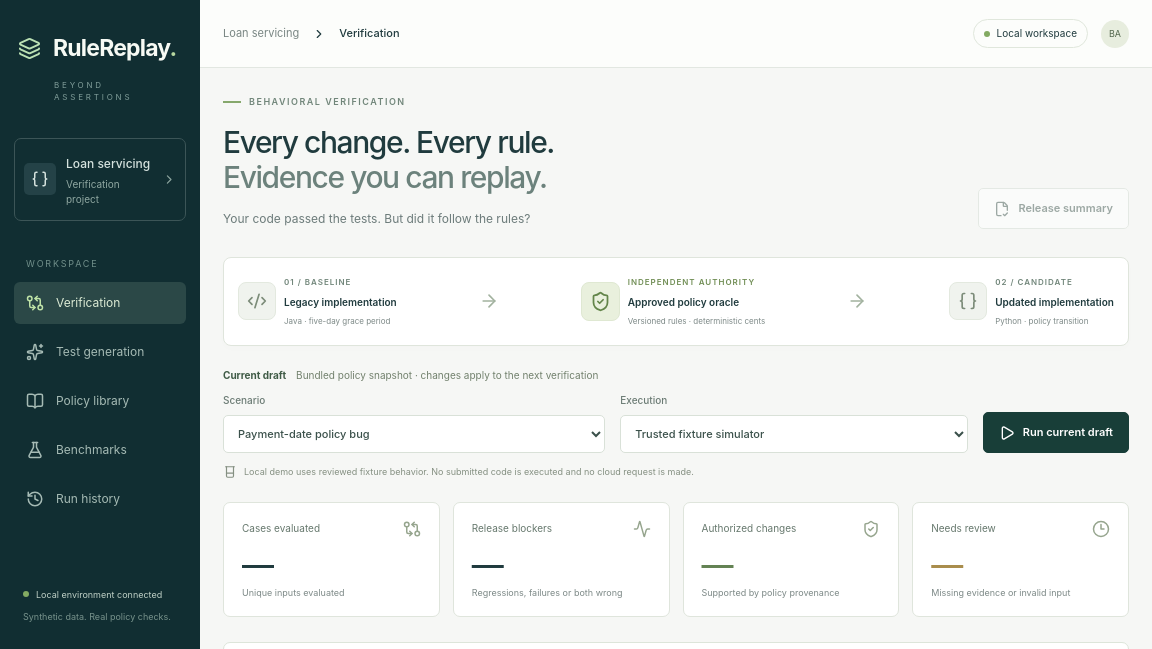
Test case: filtering findings keeps the evidence panel on a matching case
Expected: the text "Local environment connected" is shown, [23,588,177,601]
Click the button "Run current draft": (1056, 433) [983,412,1129,453]
(page scrolled)
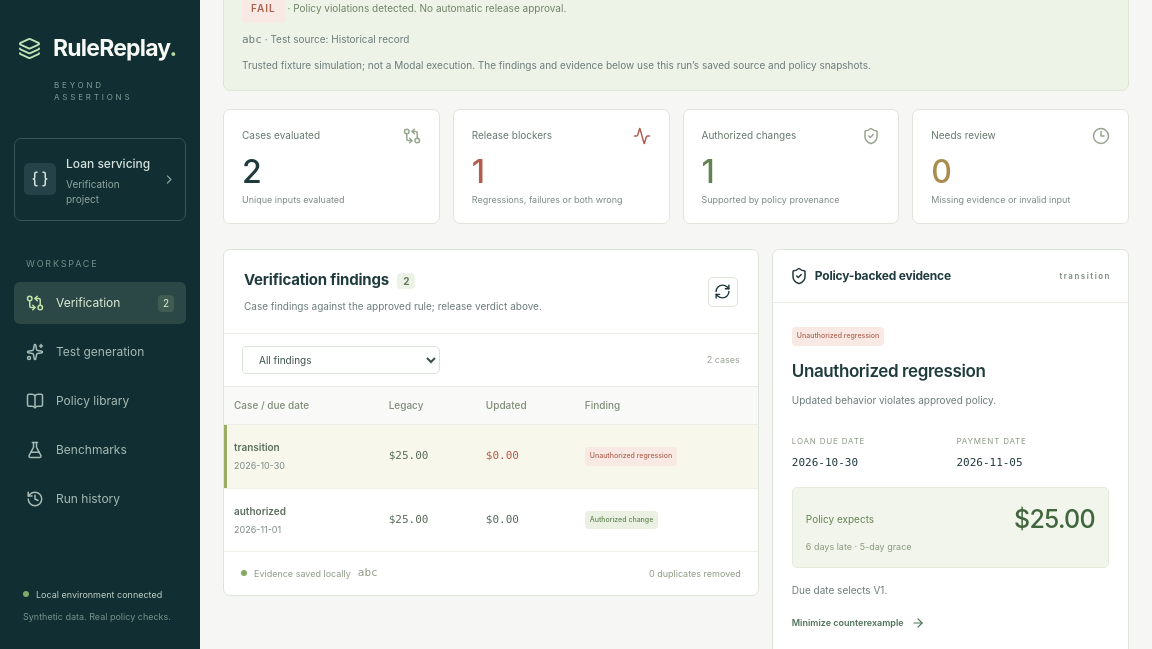
Now the heading "Unauthorized regression" is shown, box [792,361,985,381]
Select "Authorized change (1)" in the dropdown named "Filter findings": (341, 360) [242,346,440,374]
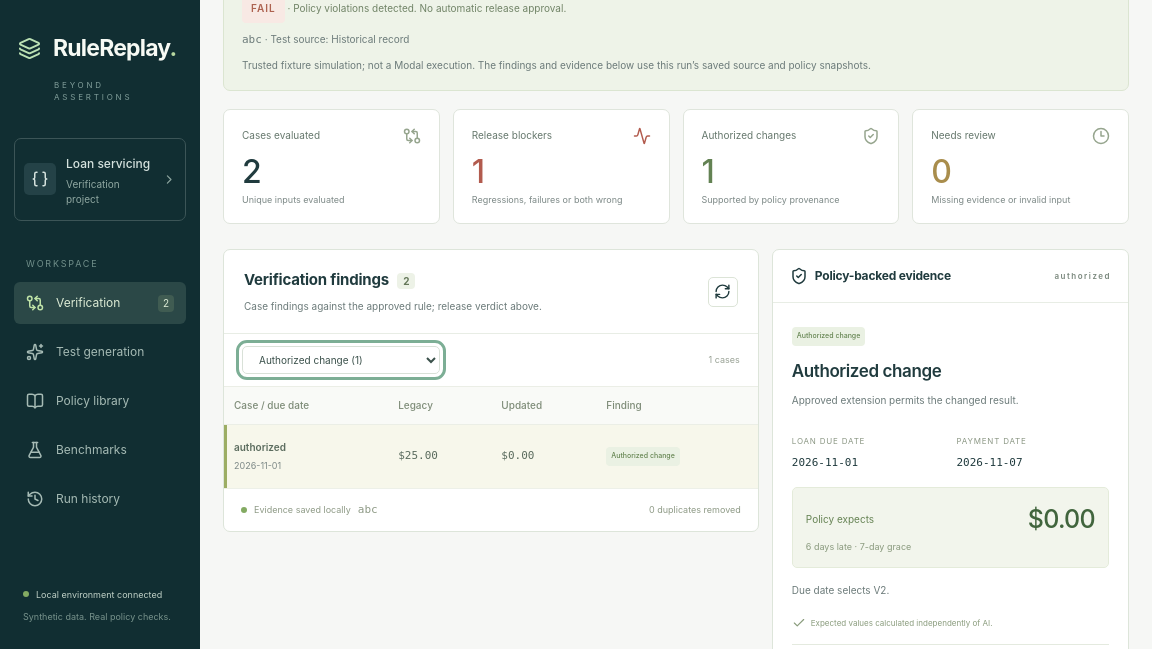
Now the heading "Authorized change" is shown, box [792,361,941,381]
Now the text "Unauthorized regression" is gone
Now the text "Due date selects V2." is shown, box [792,584,889,596]
Select "Execution failure (0)" in the dropdown named "Filter findings": (341, 360) [242,346,440,374]
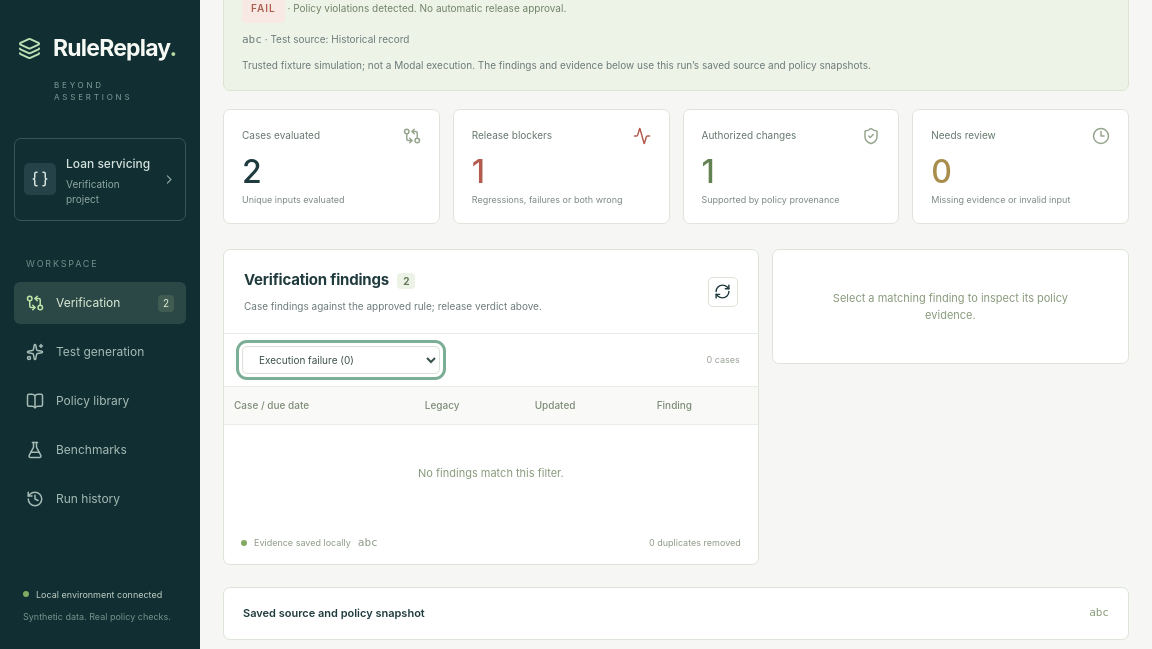
Now the text "No findings match this filter." is shown, box [418,466,564,480]
Now the text "Due date selects V2." is gone
